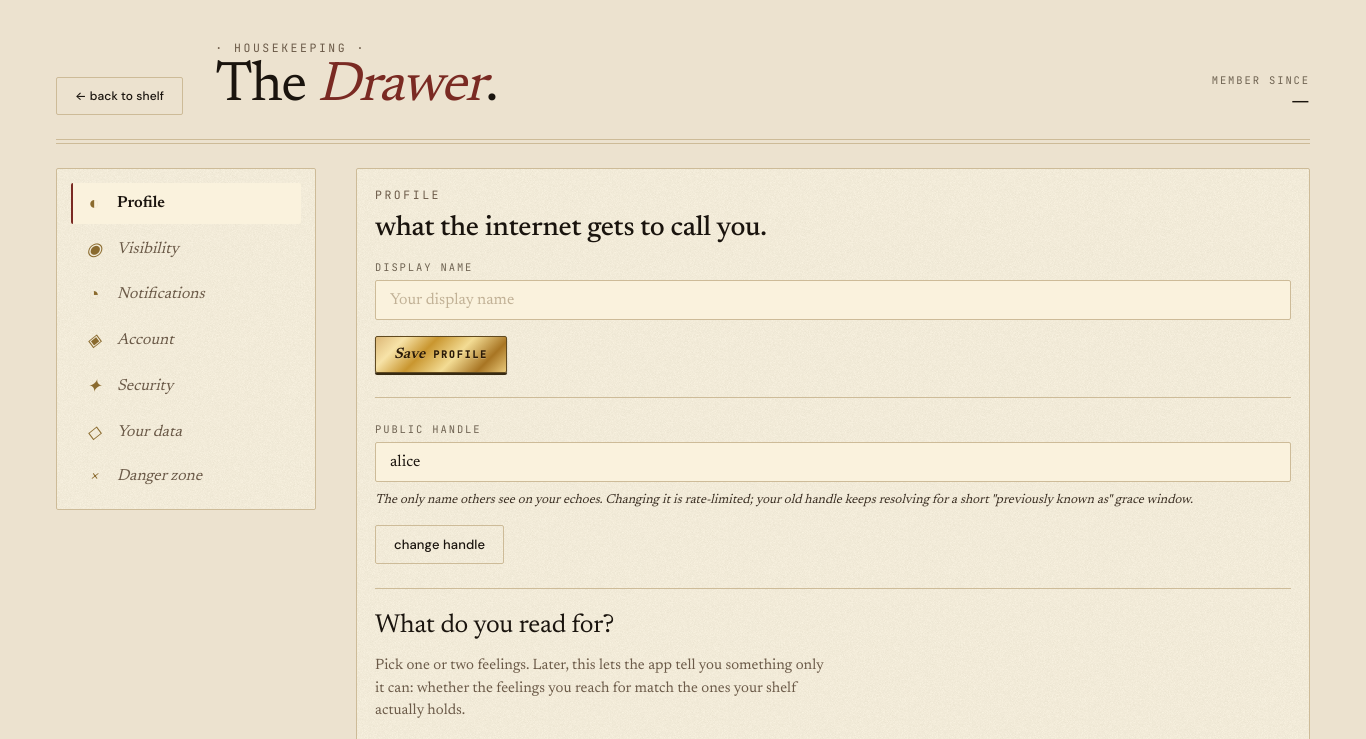
Scenario: SettingsPage visibility control [F2.8 / B2.1] › still shows the retired option to an account already set to it
Step 1. Click the button "◉ Visibility" → [186, 249], box [71,228,301,270]
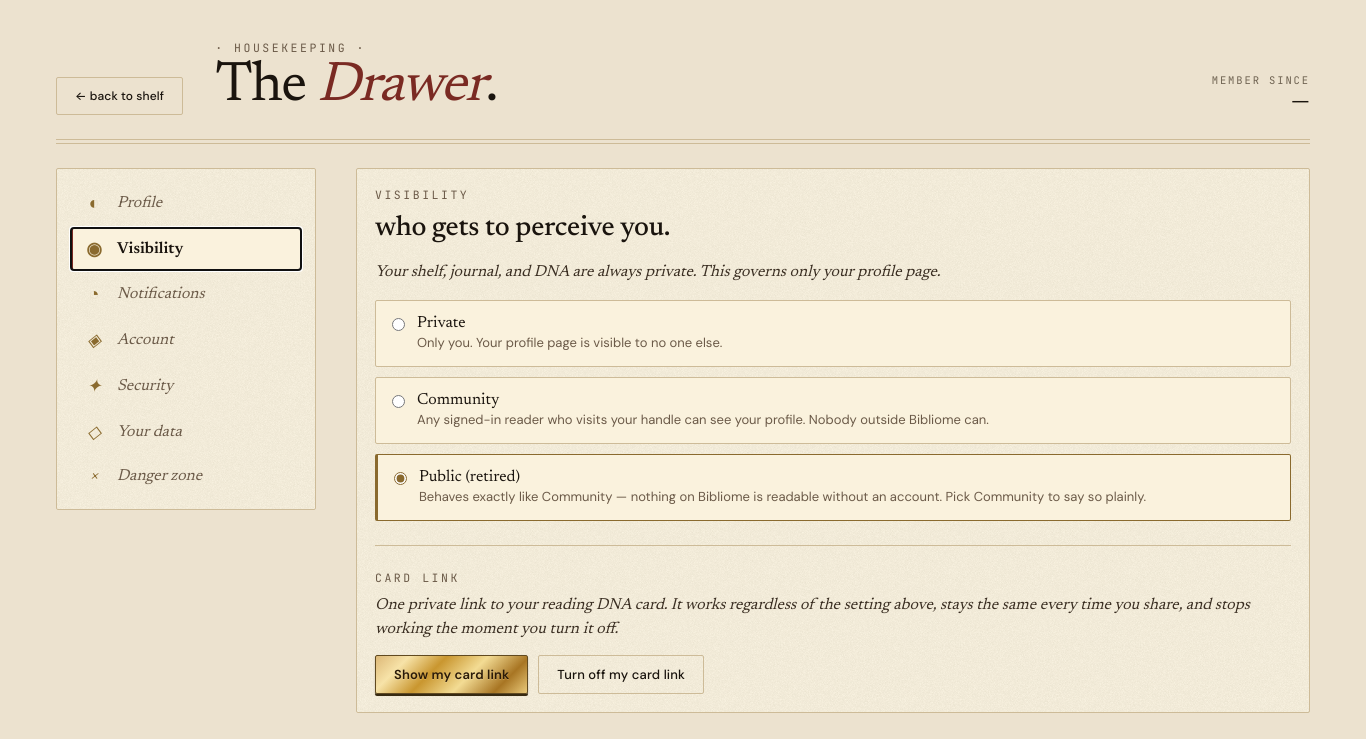
Expected: the radio button labelled "Public (retired)" is checked, [394,472,407,485]
